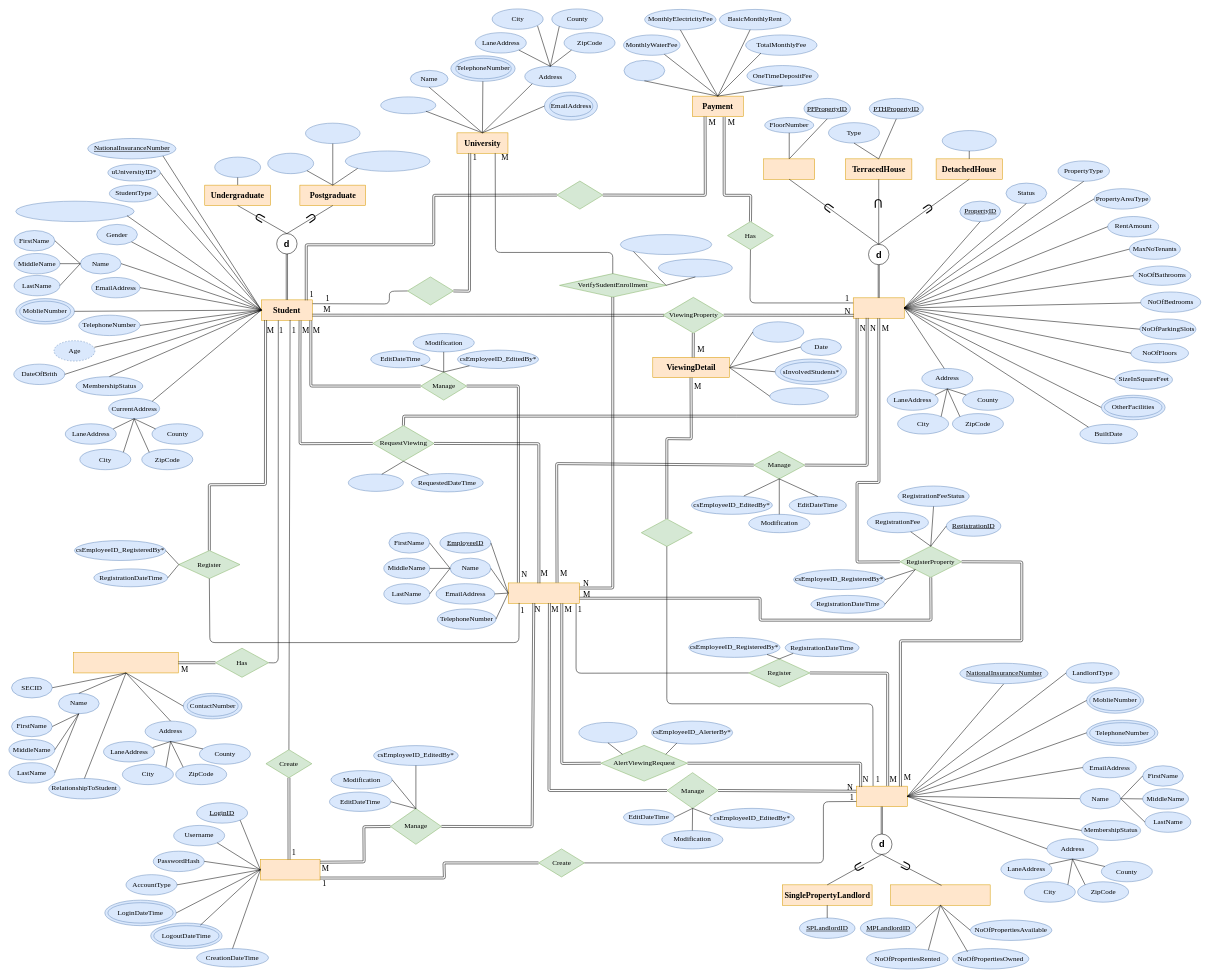
Image size: 1210x978. Some labels were removed from this diagram. Each missing label, with the box of its shape:
AlertDateTime: (578, 722, 637, 743)
Assign: (641, 518, 692, 546)
csEmployeeID_VerifiedBy*: (620, 234, 712, 254)
CustomerService: (508, 582, 580, 603)
EmployerContactNumber: (345, 150, 430, 171)
EmployerName: (305, 123, 360, 144)
Enrolled: (407, 276, 453, 305)
EstimatedProgramCompletionDate: (15, 201, 134, 222)
Flat: (763, 158, 815, 179)
Landlord: (856, 786, 907, 807)
lAssignedBy*: (769, 387, 828, 405)
MultiplePropertyLandlord: (890, 884, 990, 905)
Pay: (556, 181, 603, 209)
PaymentID: (623, 60, 665, 81)
PDHPropertyID: (942, 130, 996, 151)
PGStudentID: (267, 153, 314, 174)
Property: (853, 297, 904, 318)
sRequestedBy*: (348, 474, 403, 491)
StudentEmergencyContact: (73, 652, 178, 673)
SystemLogin: (260, 859, 320, 880)
UGStudentID: (214, 157, 261, 177)
UniversityID: (380, 96, 436, 114)
VerificationDateTime: (658, 259, 732, 277)
ViewingID: (752, 321, 804, 342)
